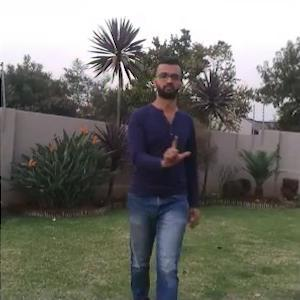land_hand: (157, 130, 192, 172)
